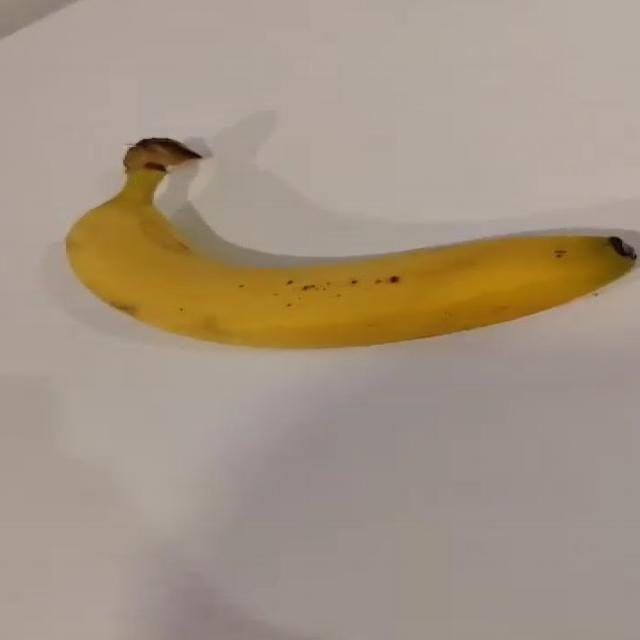Banana: (64, 156, 635, 352)
